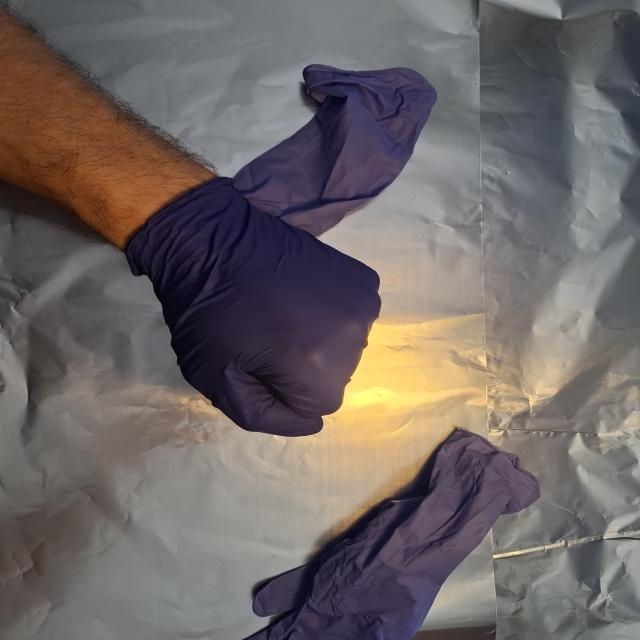glove_on: (122, 175, 385, 440)
